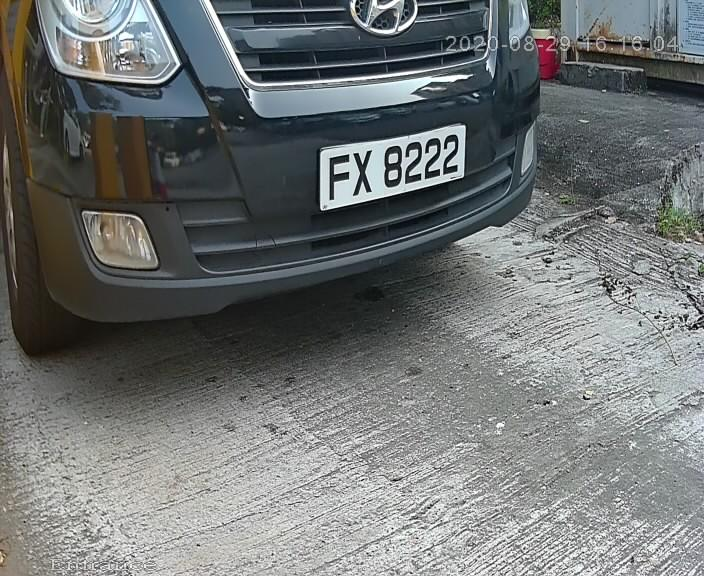License Plate: (312, 119, 472, 219)
